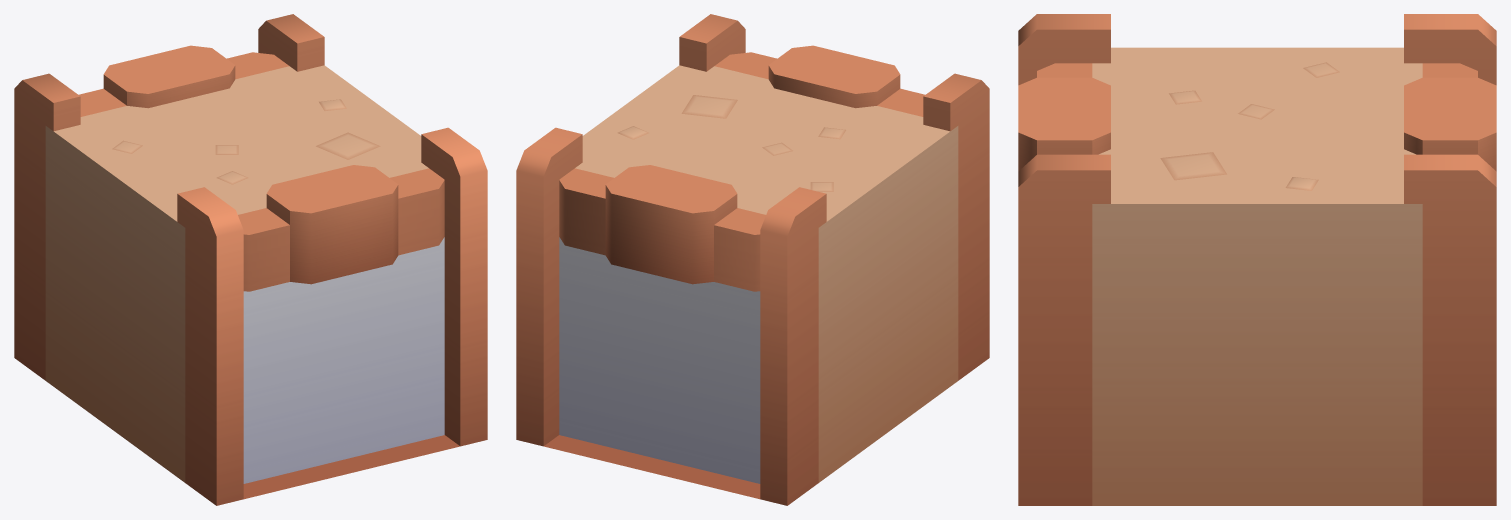
File: wall-narrow.obj
The picture shows the model from 3 angles, left to right: view 1: azimuth 30°, elevation 25°; view 2: azimuth 150°, elevation 25°; view 3: azimuth 270°, elevation 25°; orthographic projection. The views are drawn at different scales.
Visible parts, largest first — view 1: wall-narrow; view 2: wall-narrow; view 3: wall-narrow.
Part boxes in pixels (x1,y1,x2,y2): wall-narrow: (14,14,487,505); wall-narrow: (516,14,989,505); wall-narrow: (1018,14,1496,505).
Bounding box in the file's own units: 1 × 1 × 1.29.
